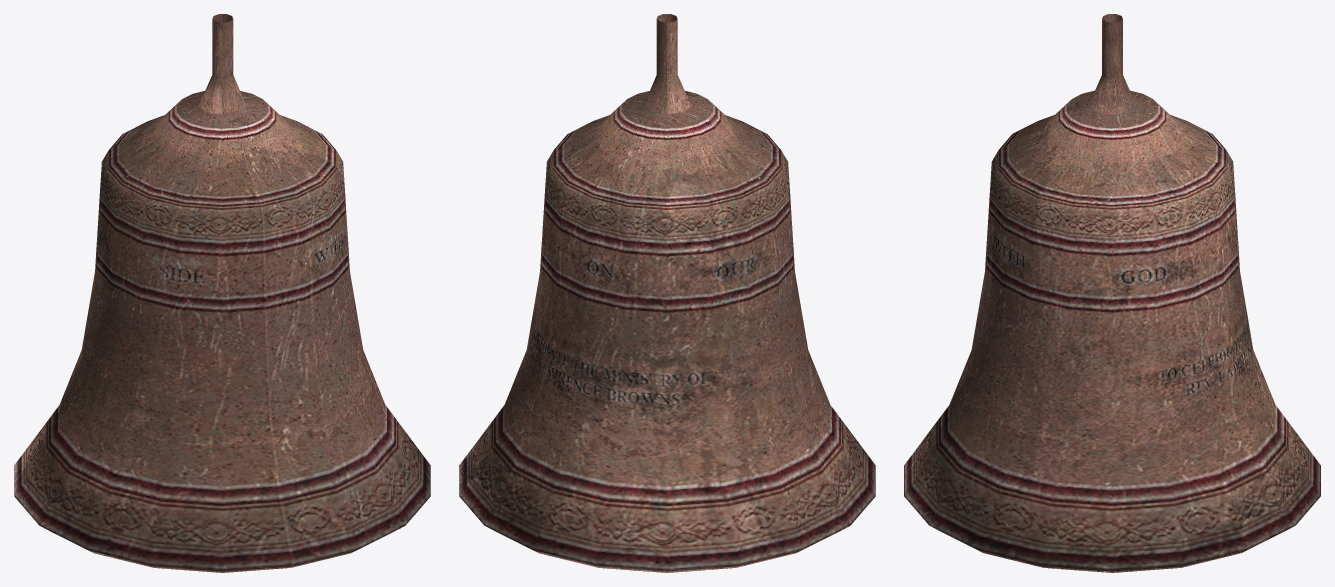
Rendered from Church_Tower_Bell.fbx.
3 views of the same model, side by side, from view 1: azimuth 30°, elevation 25°; view 2: azimuth 150°, elevation 25°; view 3: azimuth 270°, elevation 25° (orthographic).
Parts seen in each view (by area): view 1: Church_Tower_Bell; view 2: Church_Tower_Bell; view 3: Church_Tower_Bell.
Part boxes in pixels (left/top/right/bottom): Church_Tower_Bell: left=14, top=14, right=430, bottom=572; Church_Tower_Bell: left=459, top=14, right=875, bottom=572; Church_Tower_Bell: left=904, top=14, right=1320, bottom=572.
Size of the model in its own units: 3.58 by 4.39 by 3.53.
